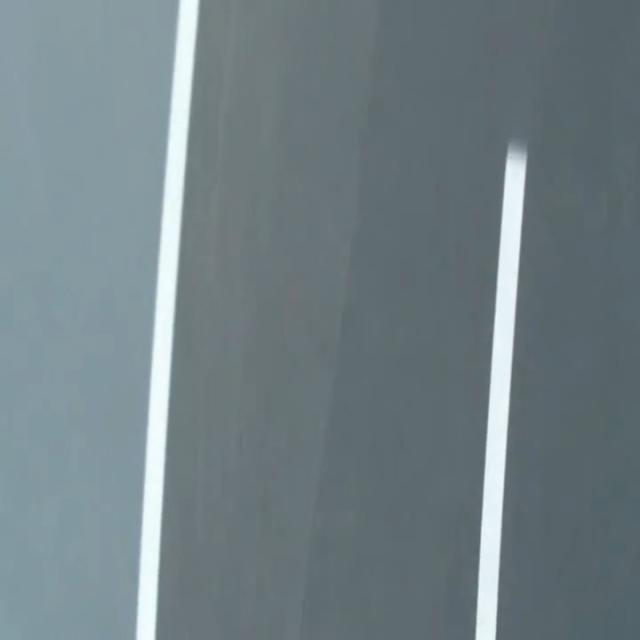center: (476, 143, 526, 639)
left: (135, 0, 199, 639)
